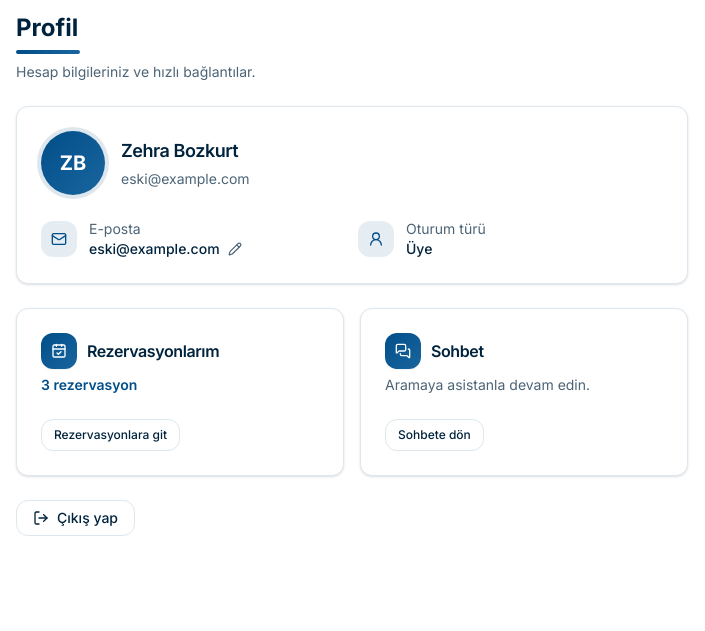
Test: ProfilePage e-posta düzenleme › backend hatasında e-postayı değiştirmez ve hatayı gösterir
This screenshot has width=705, height=631.
Step 1. Click the button named "E-postayı düzenle" → (235, 249), box [228,242,242,256]
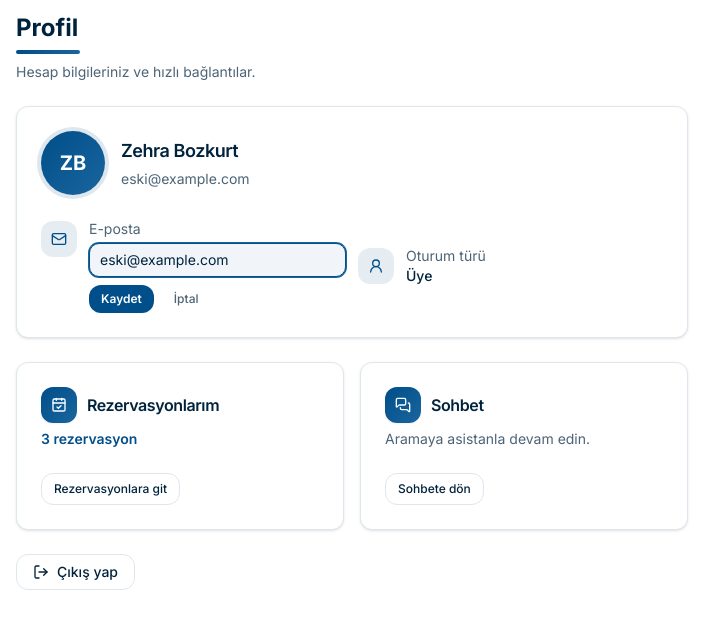
Step 2. Replace the text in the field named "E-posta" with "dolu@example.com" → (218, 260), box [89,243,346,277]
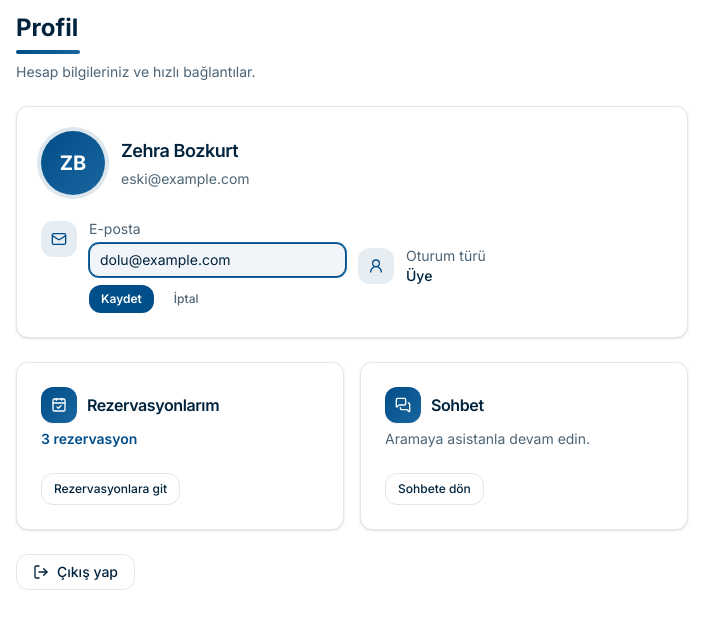
Step 3. Click the button "Kaydet" → (121, 299), box [89,285,154,313]
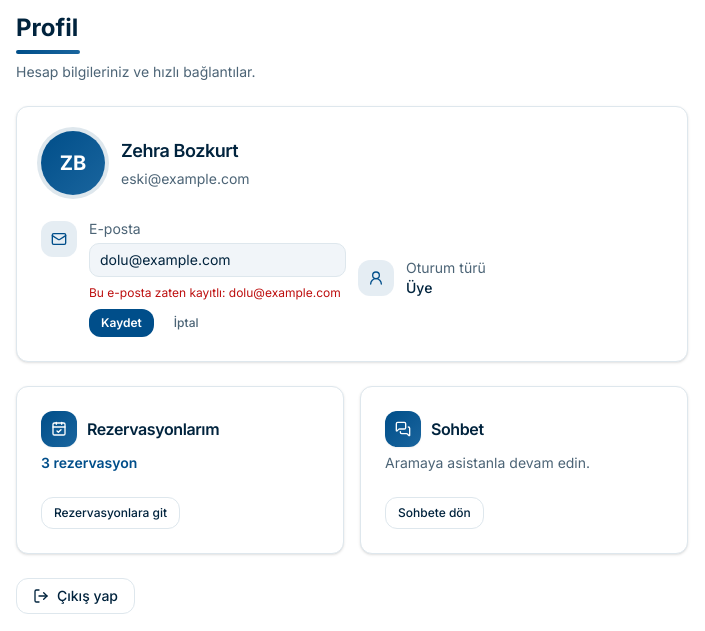
Expected: the text "eski@example.com" is shown, [121,169,250,189]
Expected: the message shows "zaten kayıtlı", [89,285,341,300]
